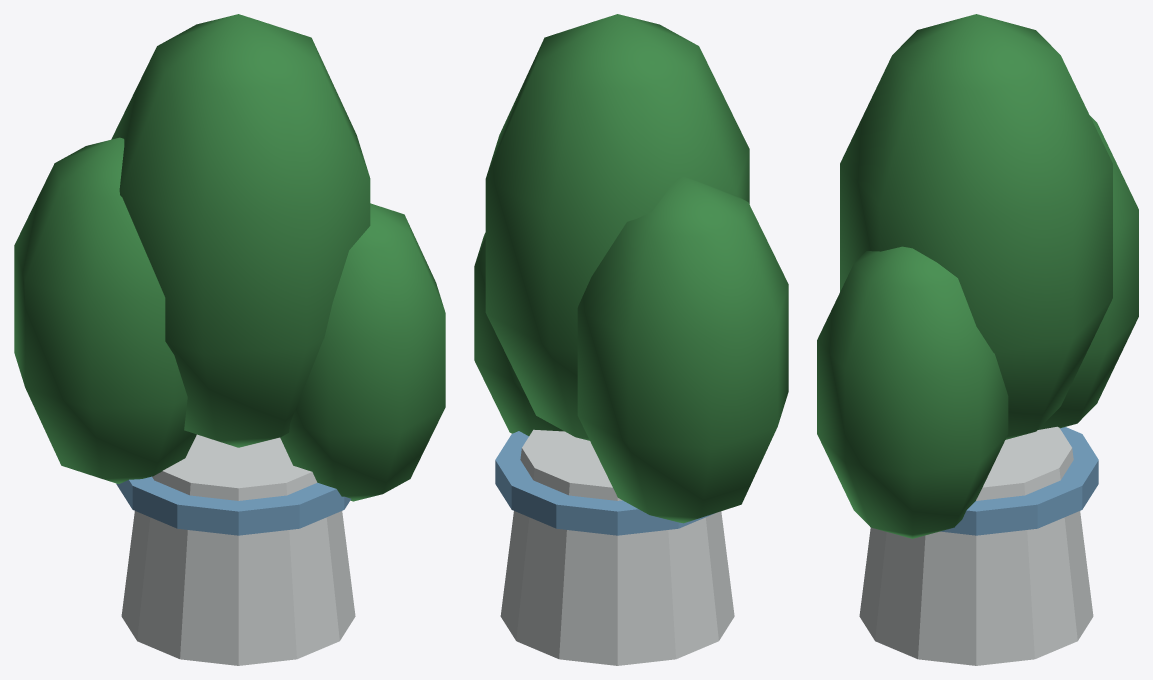
The model's file is decor_5.fbx.
The picture shows the model from 3 angles, left to right: view 1: azimuth 30°, elevation 25°; view 2: azimuth 150°, elevation 25°; view 3: azimuth 270°, elevation 25°; orthographic projection.
Parts seen in each view (by area): view 1: decor_5; view 2: decor_5; view 3: decor_5.
Boxes of the visible parts, left/top/right/bottom form: decor_5: left=14, top=14, right=445, bottom=665; decor_5: left=474, top=14, right=788, bottom=665; decor_5: left=817, top=14, right=1138, bottom=665.
Bounding box in the file's own units: 0.7652 × 1.25 × 0.6052.
